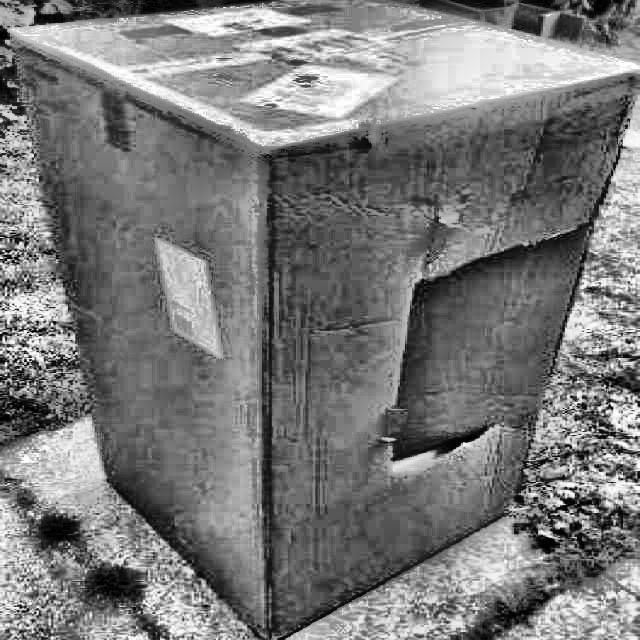box: (3, 0, 639, 638)
hole: (387, 424, 496, 476)
